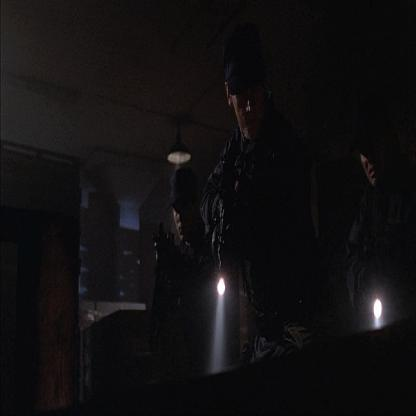Guns: (149, 218, 192, 353), (213, 162, 249, 300)
